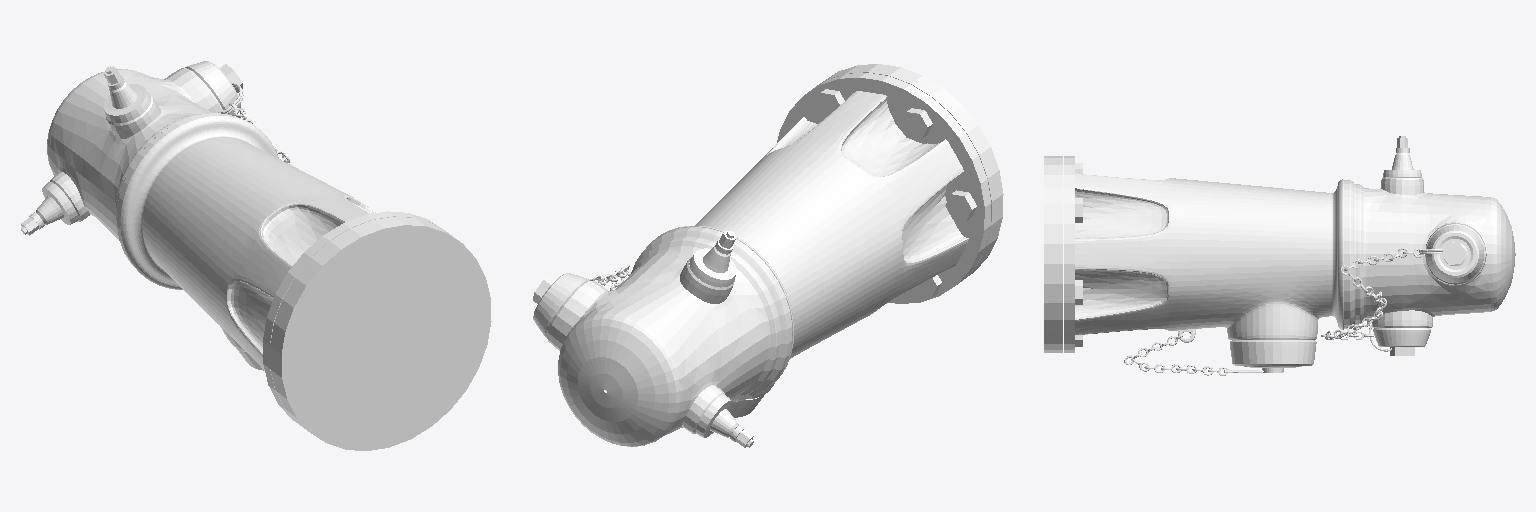
URDF robot description (model.urdf):
<?xml version="1.0" ?>
<robot name="model.urdf">
  <link name="baseLink">
    <inertial>
      <origin rpy="0 0 0" xyz="0 0 0"/>
       <mass value="0.0"/>
       <inertia ixx="0" ixy="0" ixz="0" iyy="0" iyz="0" izz="0"/>
    </inertial>
    <visual>
      <origin rpy="0 0 0" xyz="0 0 0"/>
      <geometry>
        <mesh filename="model.obj" scale="0.00025 0.00025 0.00025"/>
      </geometry>
      <material name="white">
       <color rgba="1 1 1 1"/>
     </material>
    </visual>
    <collision>
      <origin rpy="0 0 0" xyz="0 0 0"/>
      <geometry>
        <mesh filename="model.obj" scale="0.00025 0.00025 0.00025"/>
        <!-- You could also specify the collision (for the model) with a "box" tag: -->
        <!-- <box size=".06 .06 .06"/> -->
      </geometry>
    </collision>
  </link>
</robot>

--- Render facts (derived) ---
Views: 3 orthographic renders of the robot side by side, from view 1: azimuth 30°, elevation 25°; view 2: azimuth 150°, elevation 25°; view 3: azimuth 270°, elevation 25°.
Robot: model.urdf — 1 links, 0 joints (none); root link baseLink; default pose: every joint at zero.
Links seen in each view (by area): view 1: baseLink; view 2: baseLink; view 3: baseLink.
Boxes of the visible links, x1,y1,x2,y2 form: baseLink: [21, 61, 491, 450]; baseLink: [533, 64, 1003, 447]; baseLink: [1044, 136, 1515, 375].
Size in the robot's own frame: 0.171 by 0.3987 by 0.1921 metres.
Meshes: 1 distinct files referenced, 1 mesh visuals loaded (1 OBJ).
